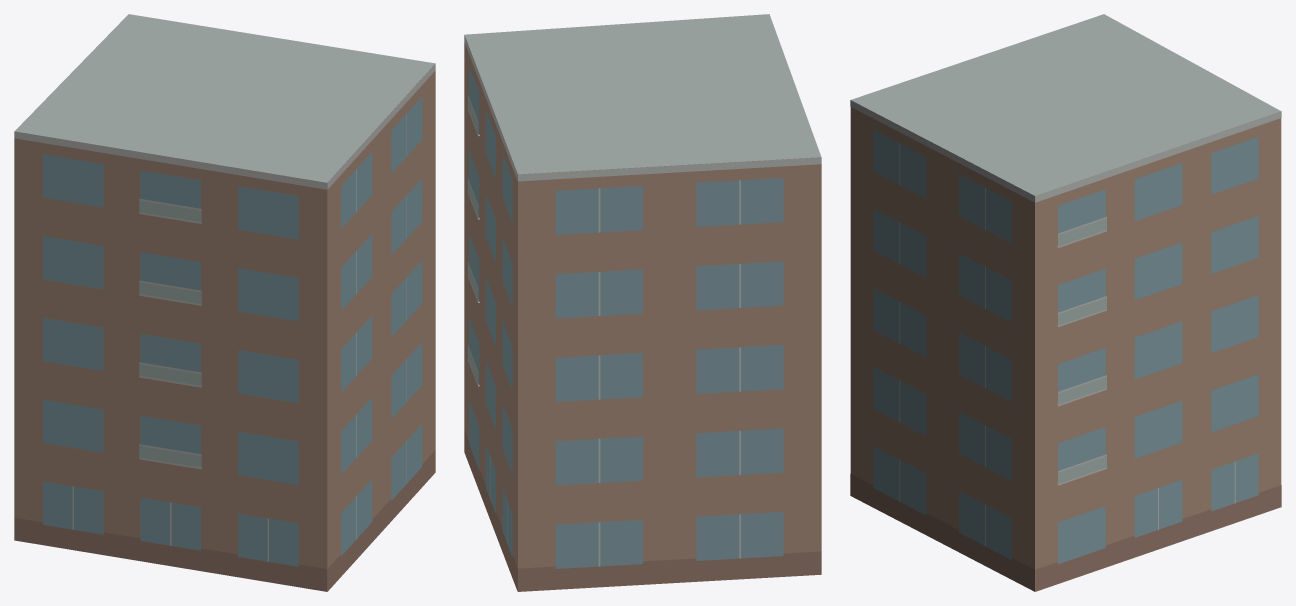
File: survey-upis-32955653.glb
3 views of the same model, side by side, from view 1: azimuth 30°, elevation 25°; view 2: azimuth 150°, elevation 25°; view 3: azimuth 270°, elevation 25° (orthographic). The views are drawn at different scales.
Visible parts, largest first — view 1: survey-upis-32955653.tmp; view 2: survey-upis-32955653.tmp; view 3: survey-upis-32955653.tmp.
Boxes of the visible parts, x1,y1,x2,y2 form: survey-upis-32955653.tmp: [14, 14, 435, 591]; survey-upis-32955653.tmp: [464, 14, 821, 591]; survey-upis-32955653.tmp: [850, 14, 1281, 591].
Size of the model in its own units: 14.21 by 14.4 by 14.22.
